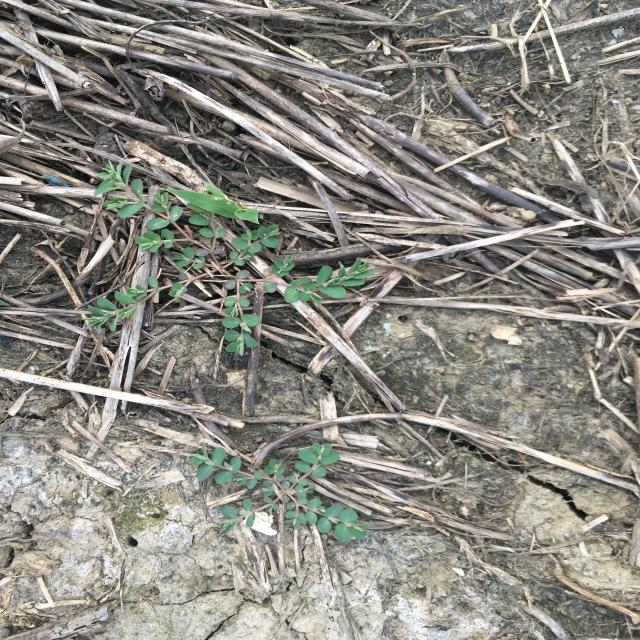SpottedSpurge: (81, 158, 377, 356), (186, 439, 375, 544)
